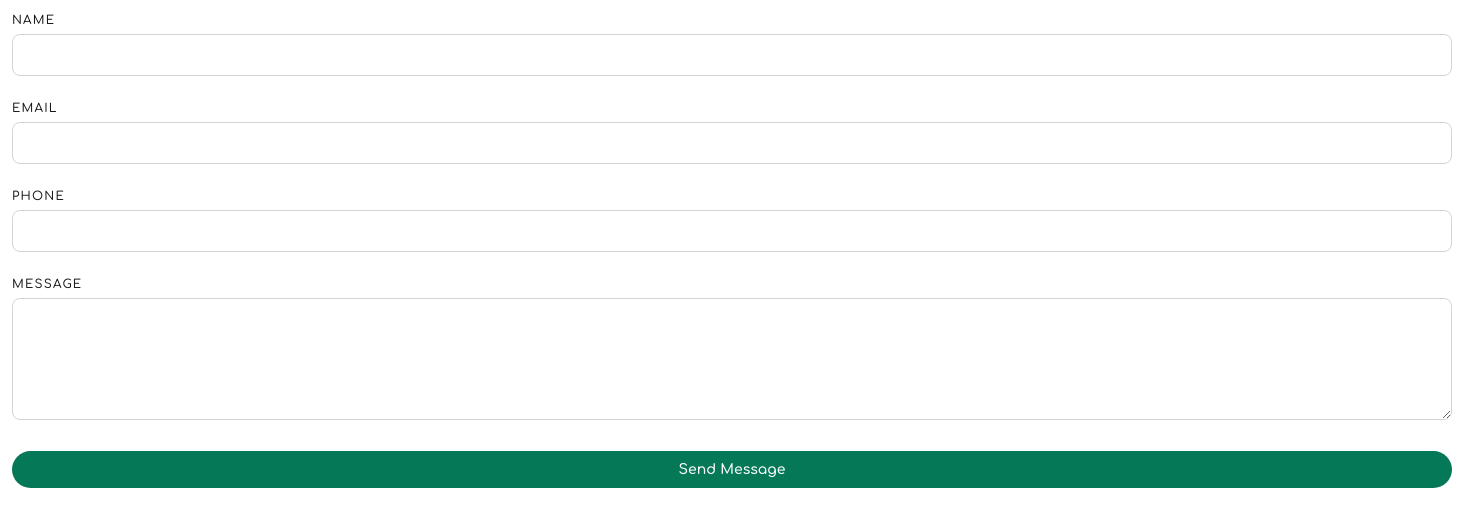
ContactForm › shows sending state on submit
Type "Test" into the field labelled "Name" at (732, 55), box left=12, top=34, right=1452, bottom=76
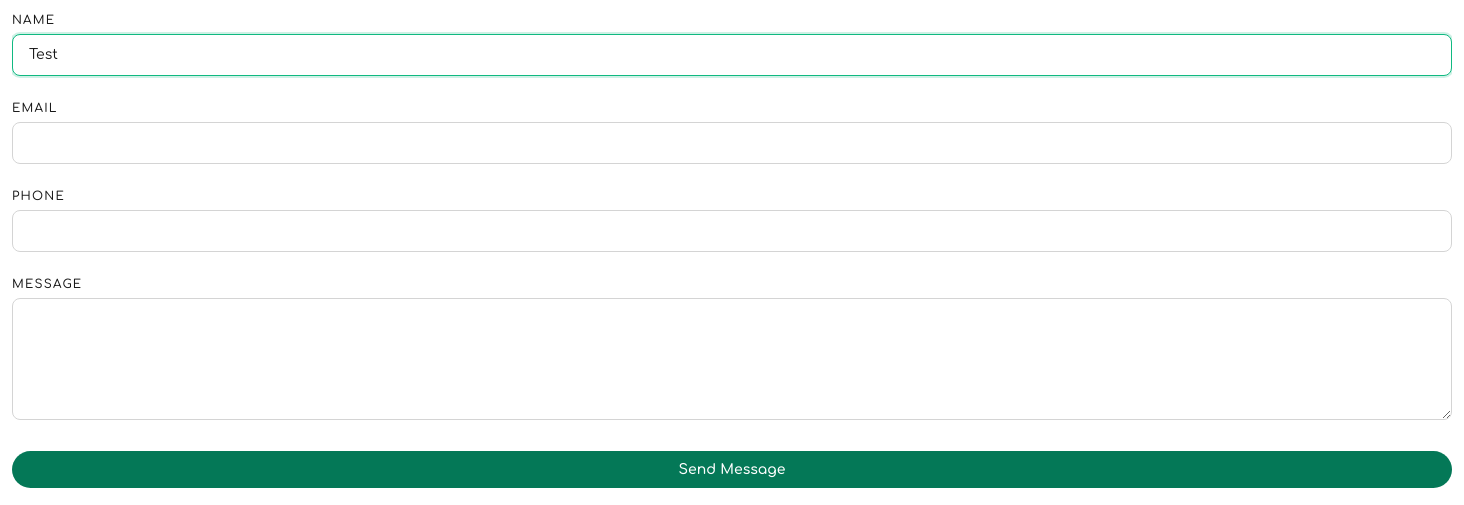
Type "test@test.com" into the field labelled "Email" at (732, 143), box left=12, top=122, right=1452, bottom=164
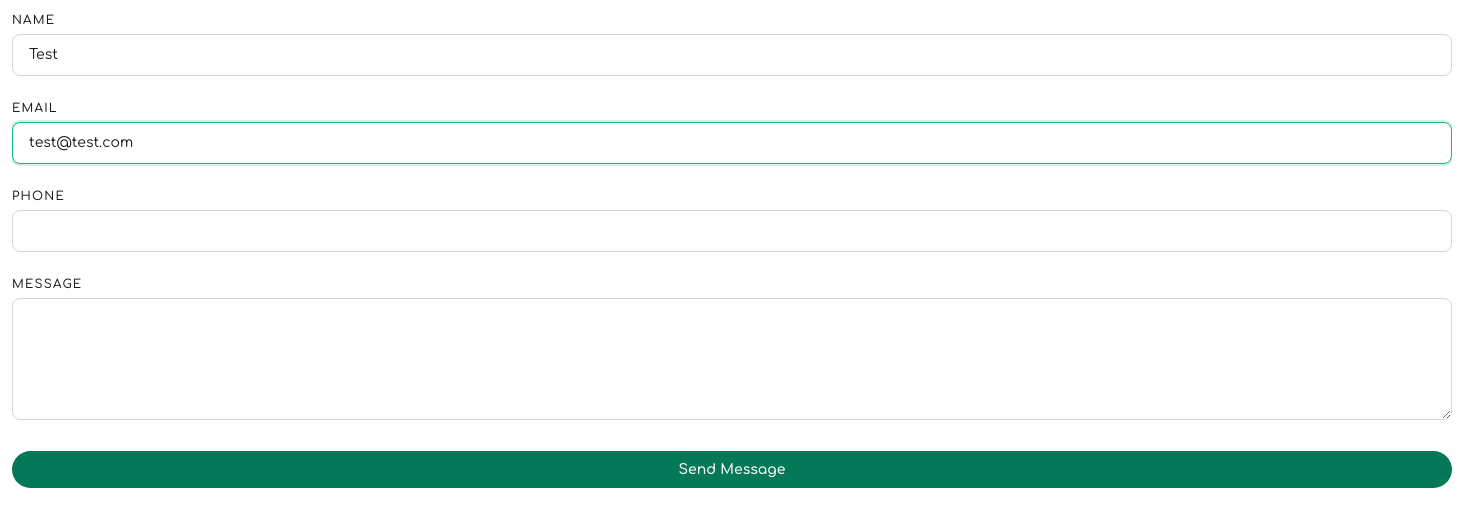
Type "9876543210" into the field labelled "Phone" at (732, 231), box left=12, top=210, right=1452, bottom=252
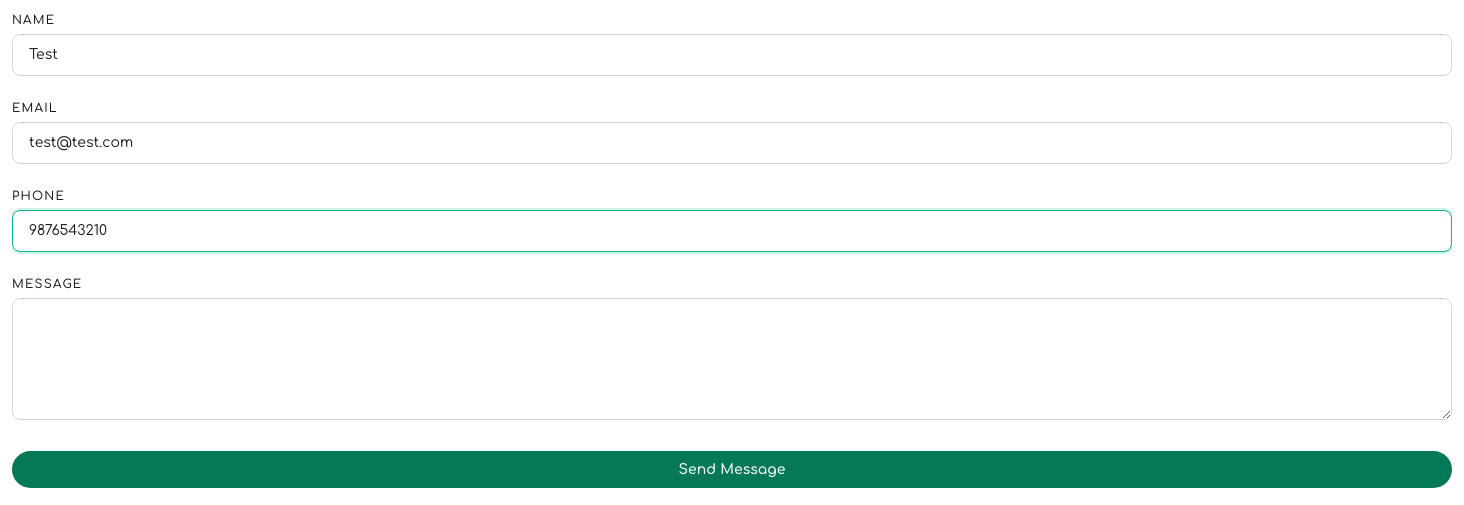
Type "Hello" into the text box labelled "Message" at (732, 359), box left=12, top=298, right=1452, bottom=420
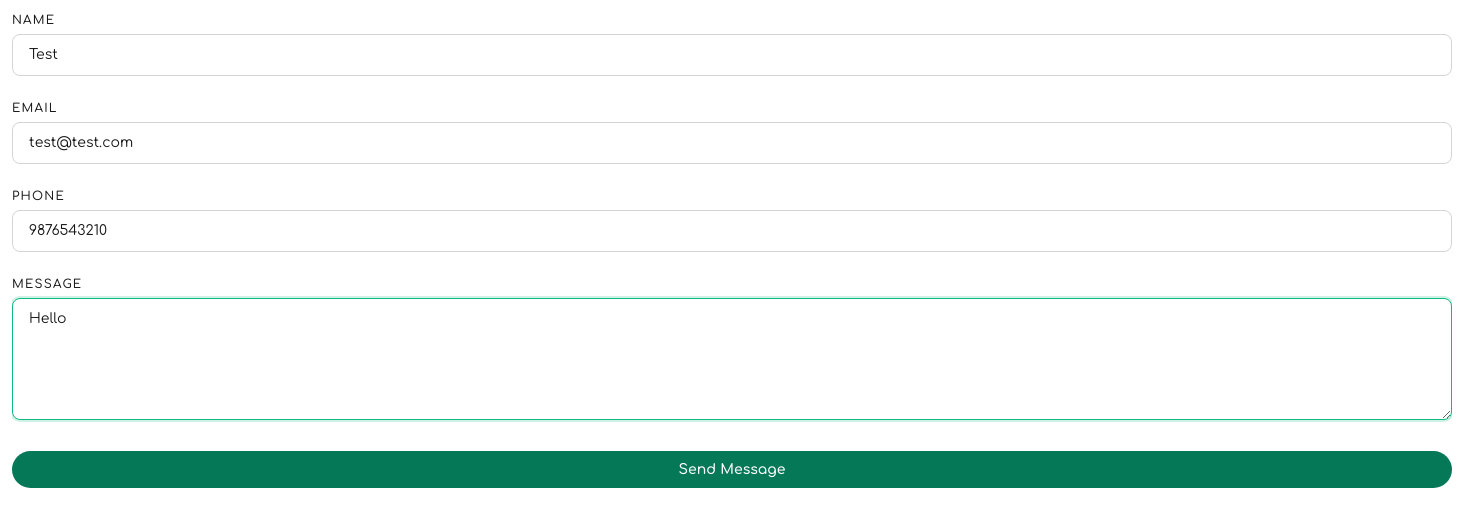
Click the button "Send Message" at (732, 470), box left=12, top=451, right=1452, bottom=488
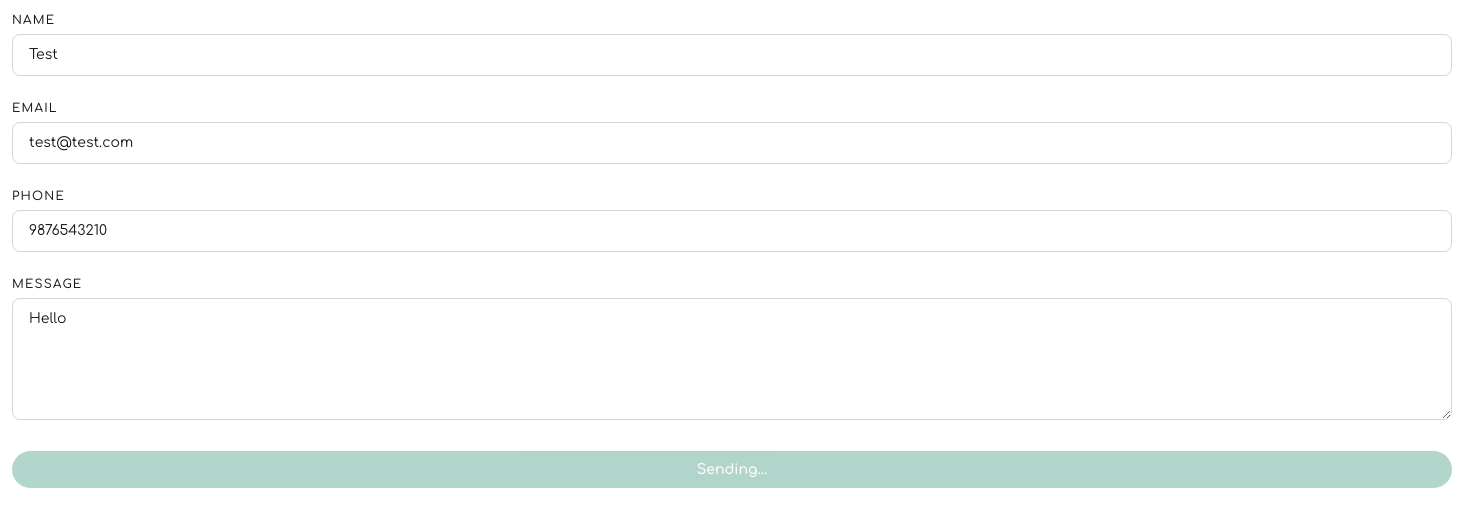
Check: the button "Sending..." is shown, box left=12, top=451, right=1452, bottom=488
